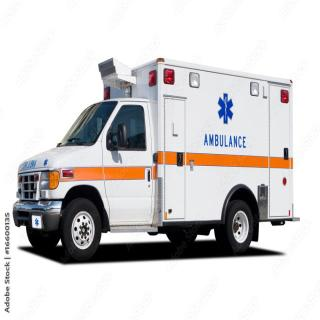Ambulance: (14, 42, 305, 306)
